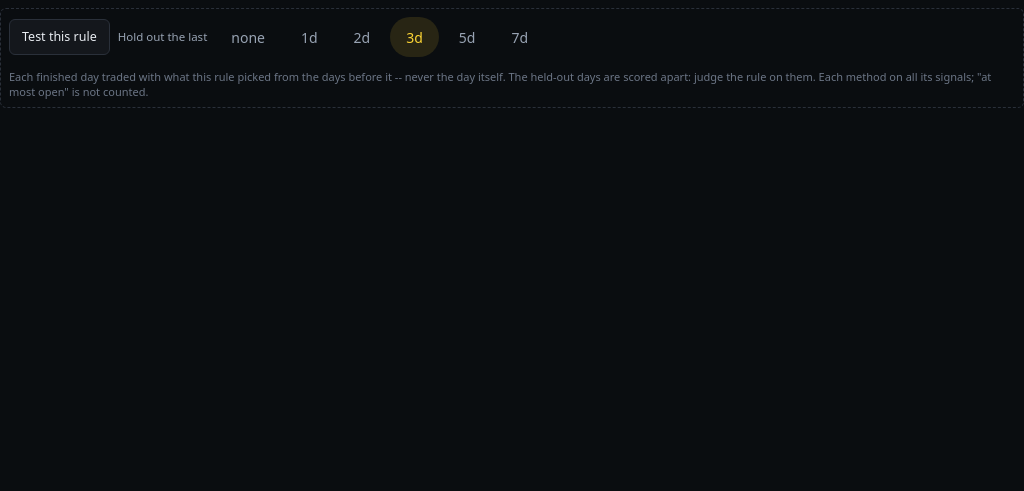
Test: Test this rule, when the record is short › [critical] a holdout that does not fit is explained, the ones over it are not offered, and the one that fits is a tap
Click the button "7d" at point(520, 37), box [496, 17, 544, 57]
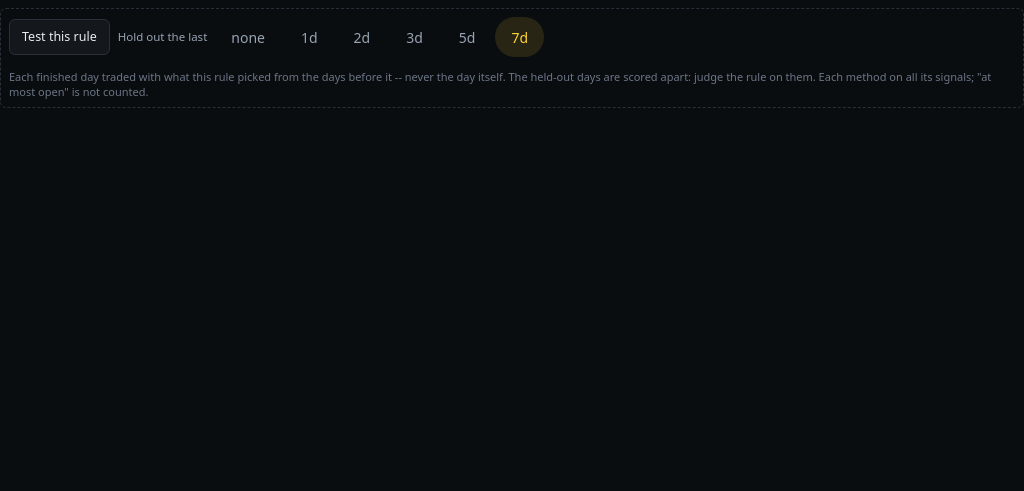
Click the button "Test this rule" at point(59, 37), box [9, 19, 110, 55]
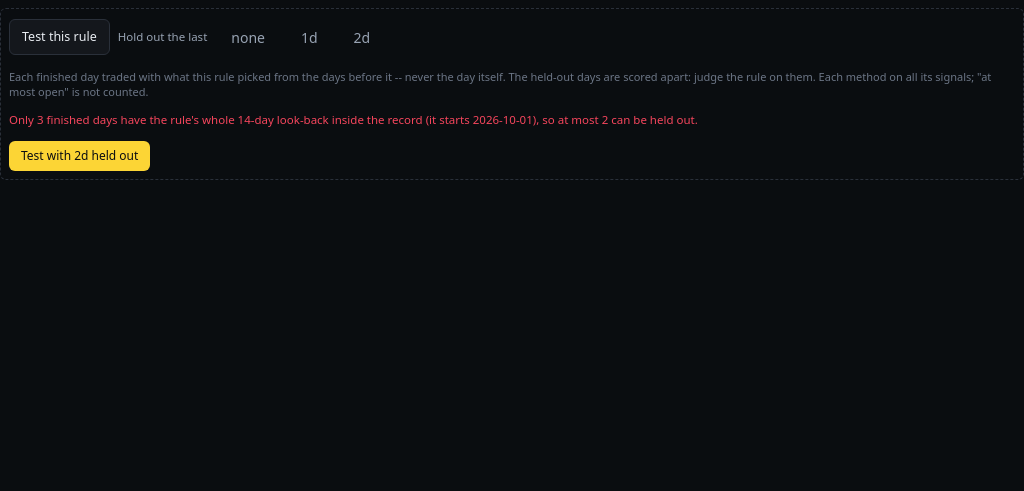
expect the message shows "Only 3 finished days have the rule's whole 14-day look-back": met, box [9, 112, 698, 127]
expect the buttons read "none", "1d", "2d", in this order: met, box [215, 17, 281, 57]; [285, 17, 334, 57]; [338, 17, 386, 57]
Click the button "Test with 2d held out" at point(80, 156), box [9, 140, 150, 170]
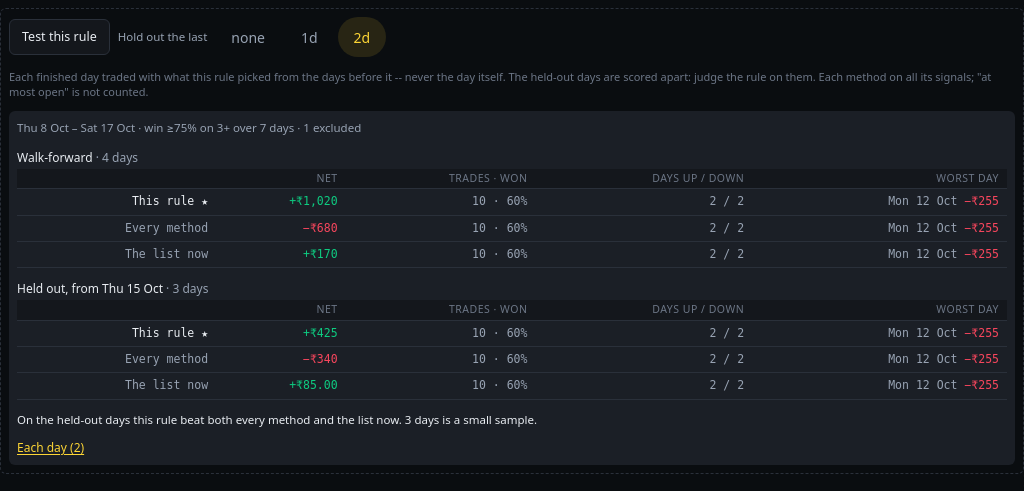
expect the message named "Walk-forward result" is shown: met
